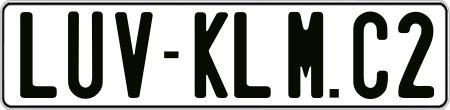2: (398, 9, 438, 96)
C: (353, 10, 388, 97)
K: (193, 11, 231, 100)
L: (234, 9, 277, 97), (20, 10, 60, 100)
M: (285, 10, 326, 99)
U: (65, 10, 106, 99)
V: (112, 12, 156, 102)
